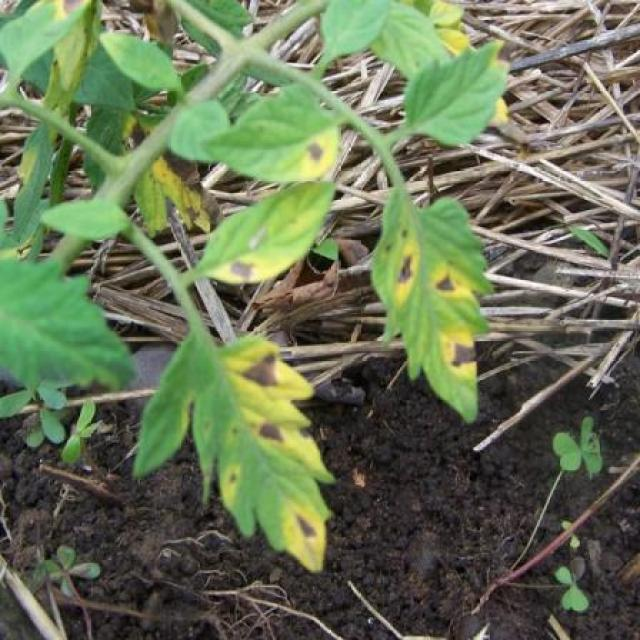Early Blight: (132, 330, 335, 576), (369, 183, 494, 420), (184, 178, 337, 285), (197, 86, 369, 180)
